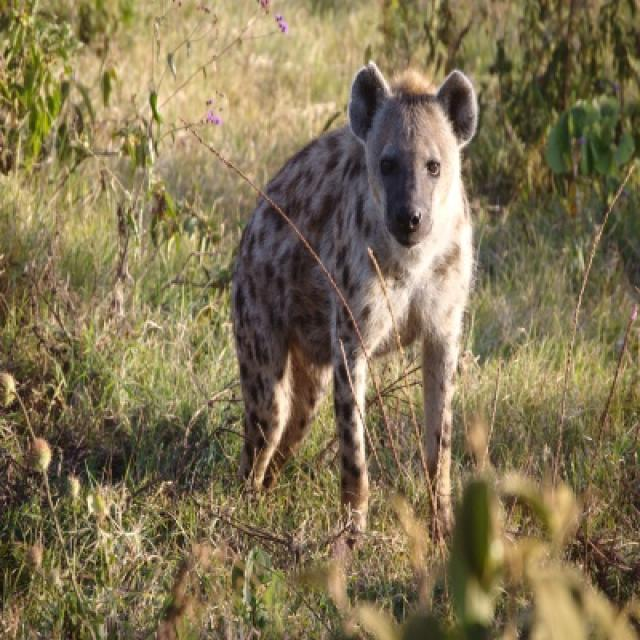hyena: (230, 66, 480, 614)
